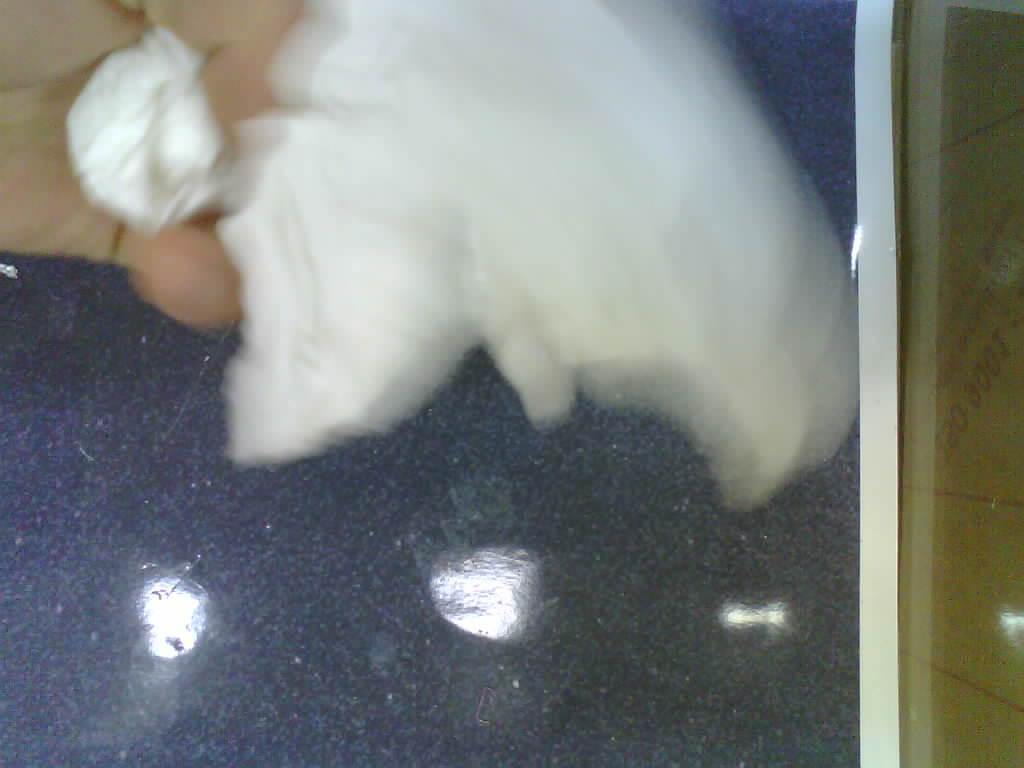paper: (70, 1, 856, 504)
